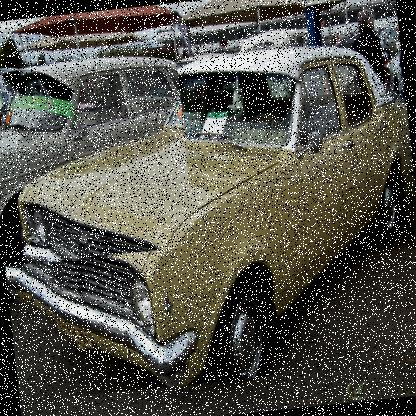Car: (0, 0, 415, 404), (0, 49, 197, 268), (377, 26, 405, 96), (247, 26, 308, 50)
